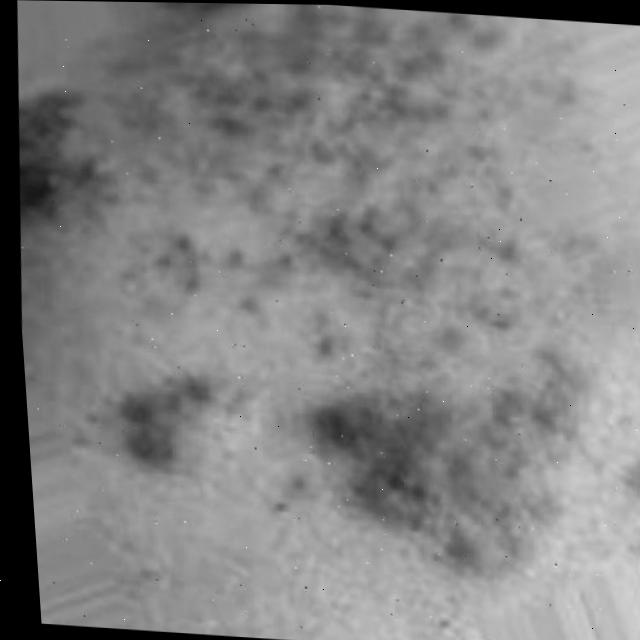Shingles: (1, 0, 561, 324), (346, 383, 575, 565), (97, 377, 252, 470)
